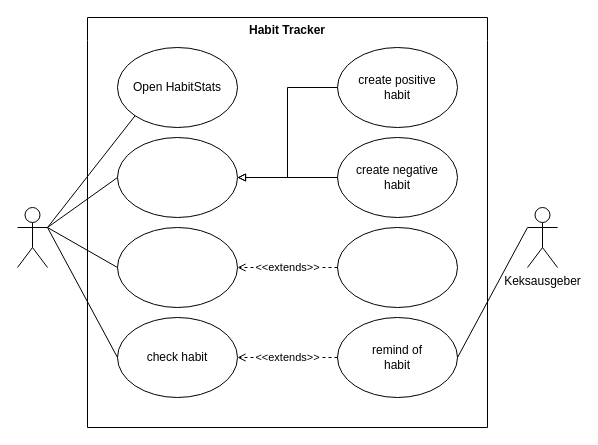
This 598x445 diagram has some shape labels left out. The box of each missing label's shape, as (x1, y1, x2, y2) in pixels:
create habit: (116, 136, 238, 218)
delete habit: (336, 226, 458, 308)
edit habit: (116, 226, 238, 308)
User: (16, 206, 48, 268)
